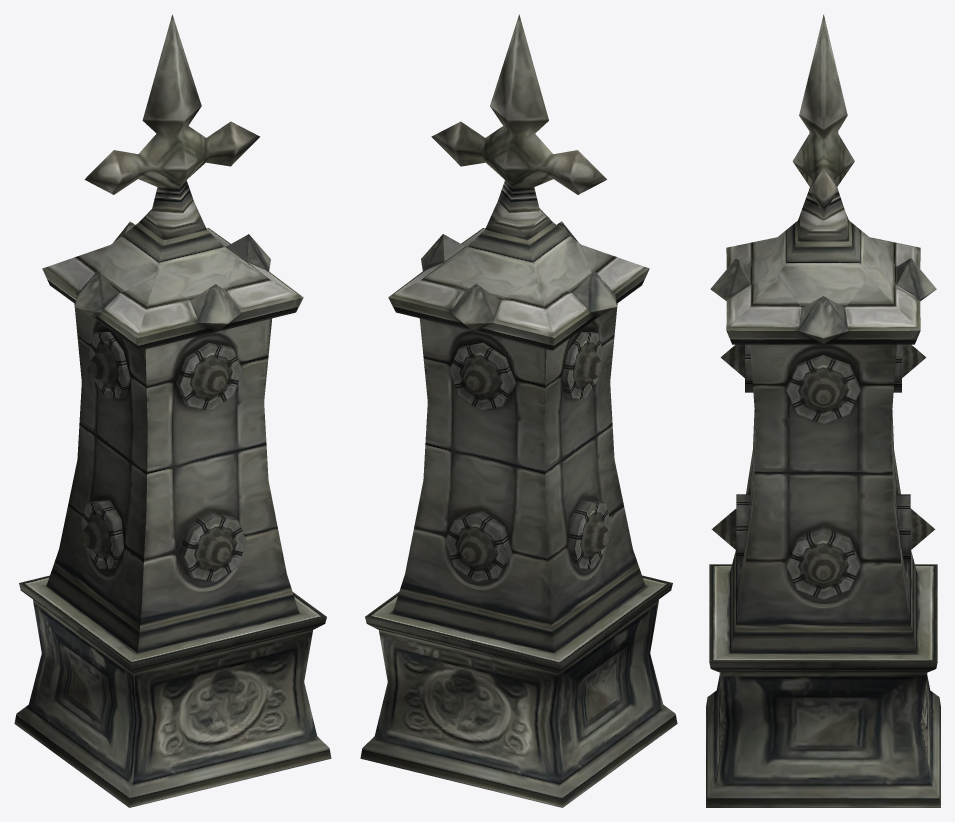
Rendered from ironfence03.FBX.
The picture shows the model from 3 angles, left to right: view 1: azimuth 30°, elevation 25°; view 2: azimuth 150°, elevation 25°; view 3: azimuth 270°, elevation 25°; orthographic projection. The views are drawn at different scales.
Parts seen in each view (by area): view 1: ironfence03; view 2: ironfence03; view 3: ironfence03.
Boxes of the visible parts, x1=… form: ironfence03: x1=14, y1=14, x2=331, y2=807; ironfence03: x1=360, y1=14, x2=677, y2=807; ironfence03: x1=706, y1=14, x2=940, y2=807.
Size of the model in its own units: 78.99 by 272 by 77.81.
